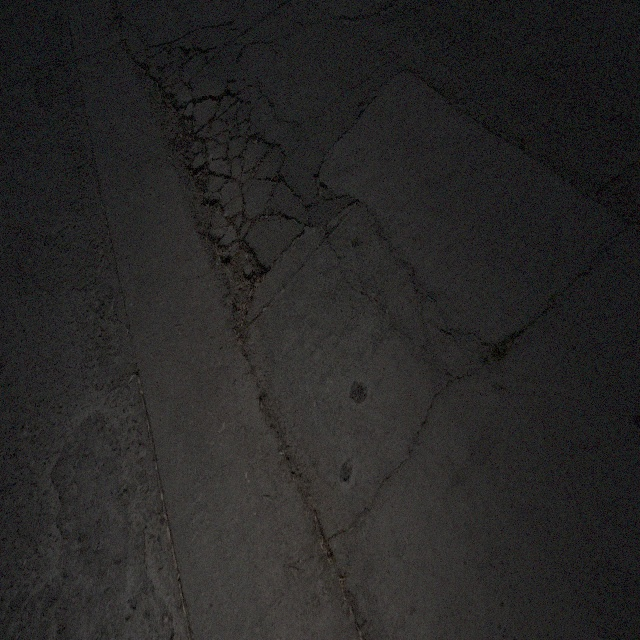pothole: (478, 330, 514, 370)
